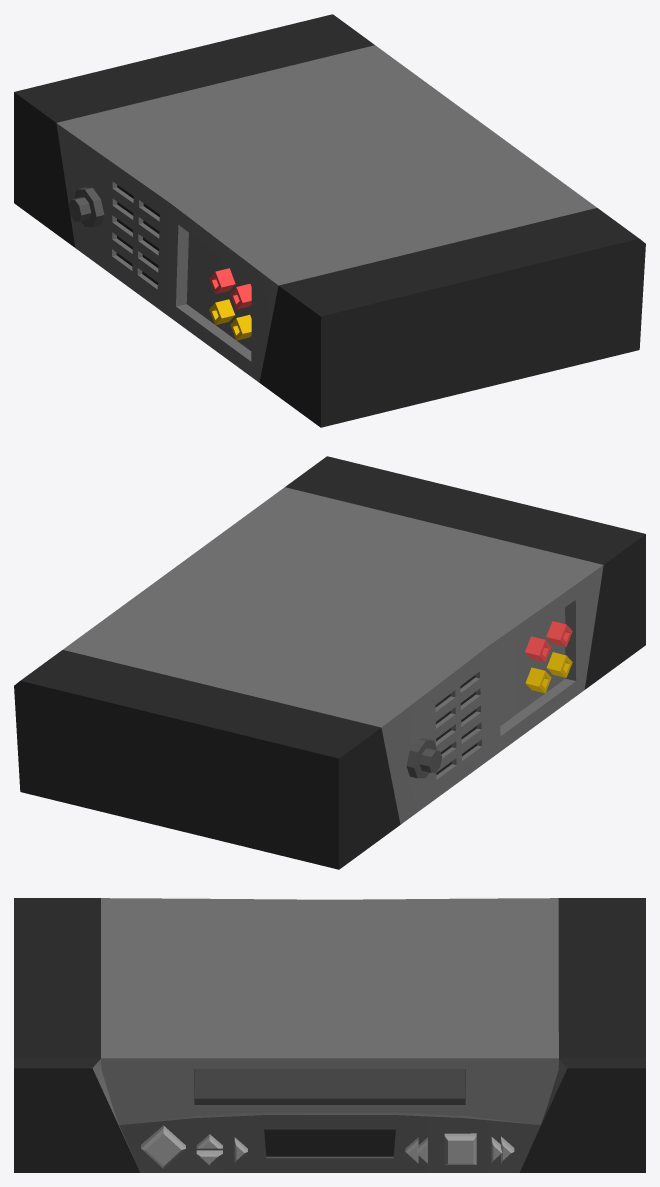
The model's file is VHSPlayer_01.glb.
3 renders of one model, top to bottom at view 1: azimuth 30°, elevation 25°; view 2: azimuth 150°, elevation 25°; view 3: azimuth 270°, elevation 25°, orthographic. The views are drawn at different scales.
Parts seen in each view (by area): view 1: Mesh_VHSPlayer_01; view 2: Mesh_VHSPlayer_01; view 3: Mesh_VHSPlayer_01.
Part boxes in pixels (x1=…): Mesh_VHSPlayer_01: x1=14, y1=14, x2=645, y2=427; Mesh_VHSPlayer_01: x1=14, y1=456, x2=645, y2=869; Mesh_VHSPlayer_01: x1=14, y1=898, x2=645, y2=1172.
Bounding box in the file's own units: 0.3275 × 0.1 × 0.5001.
Materials: 1 (1 with a texture image).
